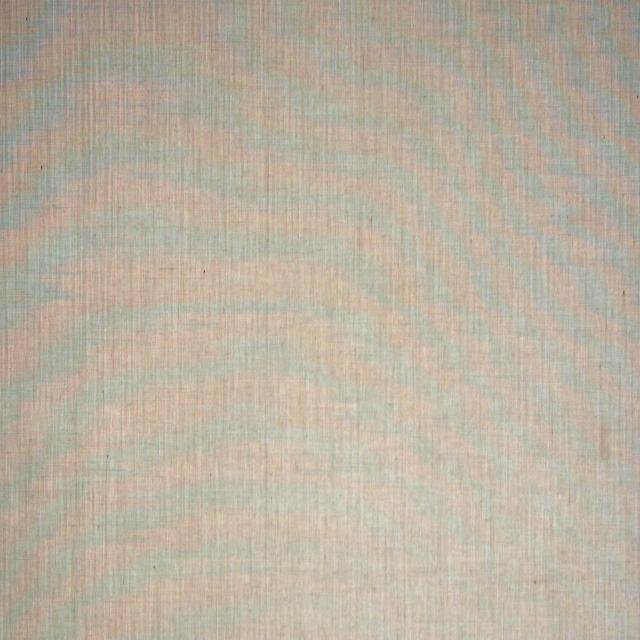dirty: (601, 424, 609, 462)
